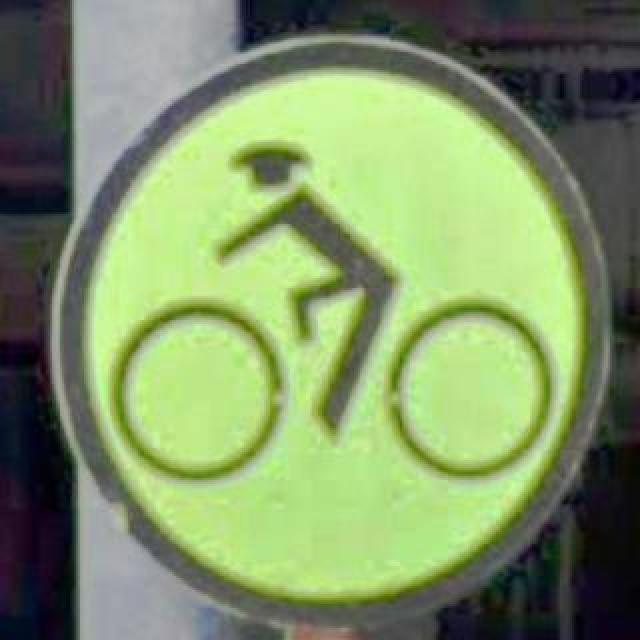bike lane: (48, 32, 608, 624)
